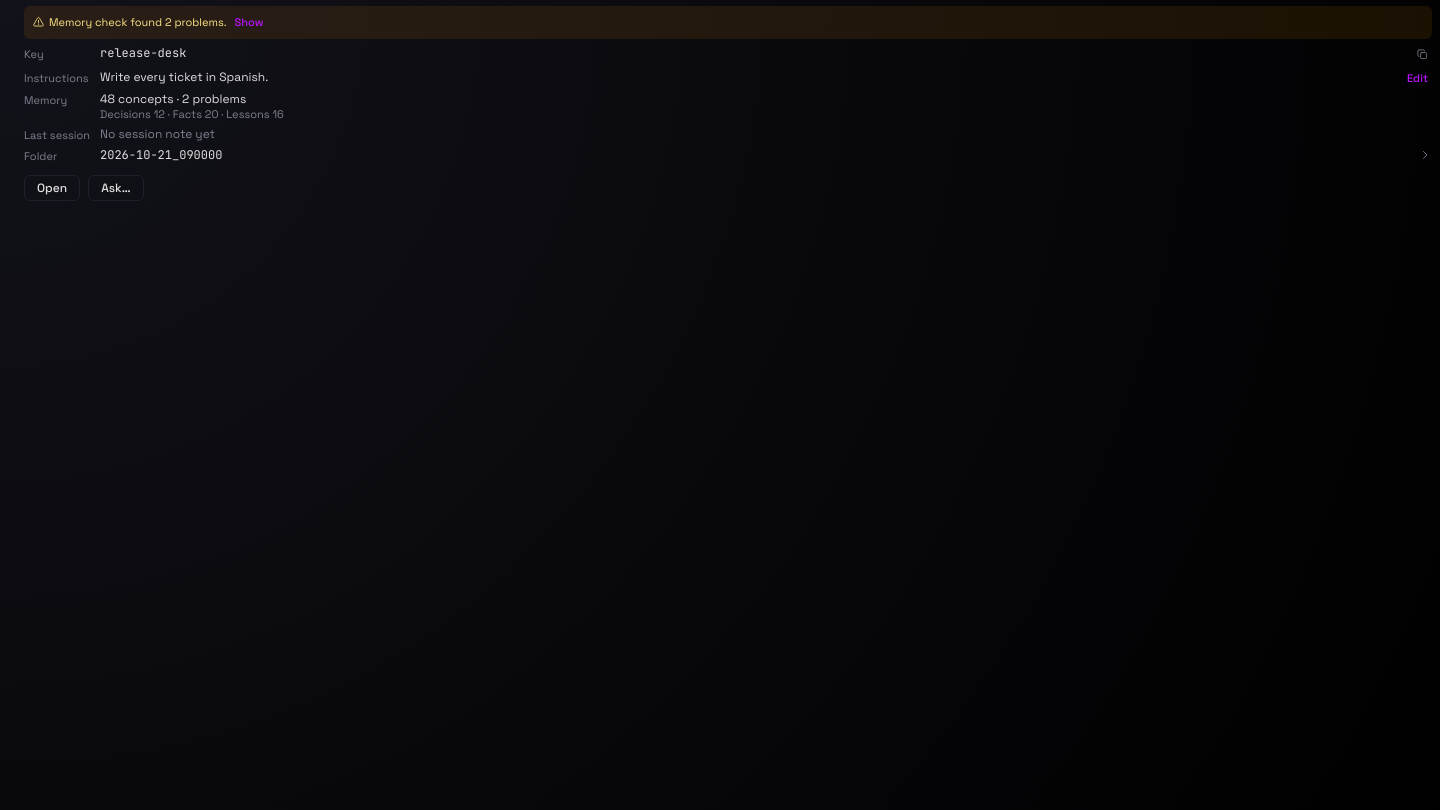
it: ManagerInspector › counts the problems the memory check found and unfolds them on Show
Expected: the text "Memory check found 2 problems." is shown, [49,14,227,30]
Expected: the text "facts/a.md: No type." is not shown
Click the button "Show": (249, 22) [231,12,268,32]
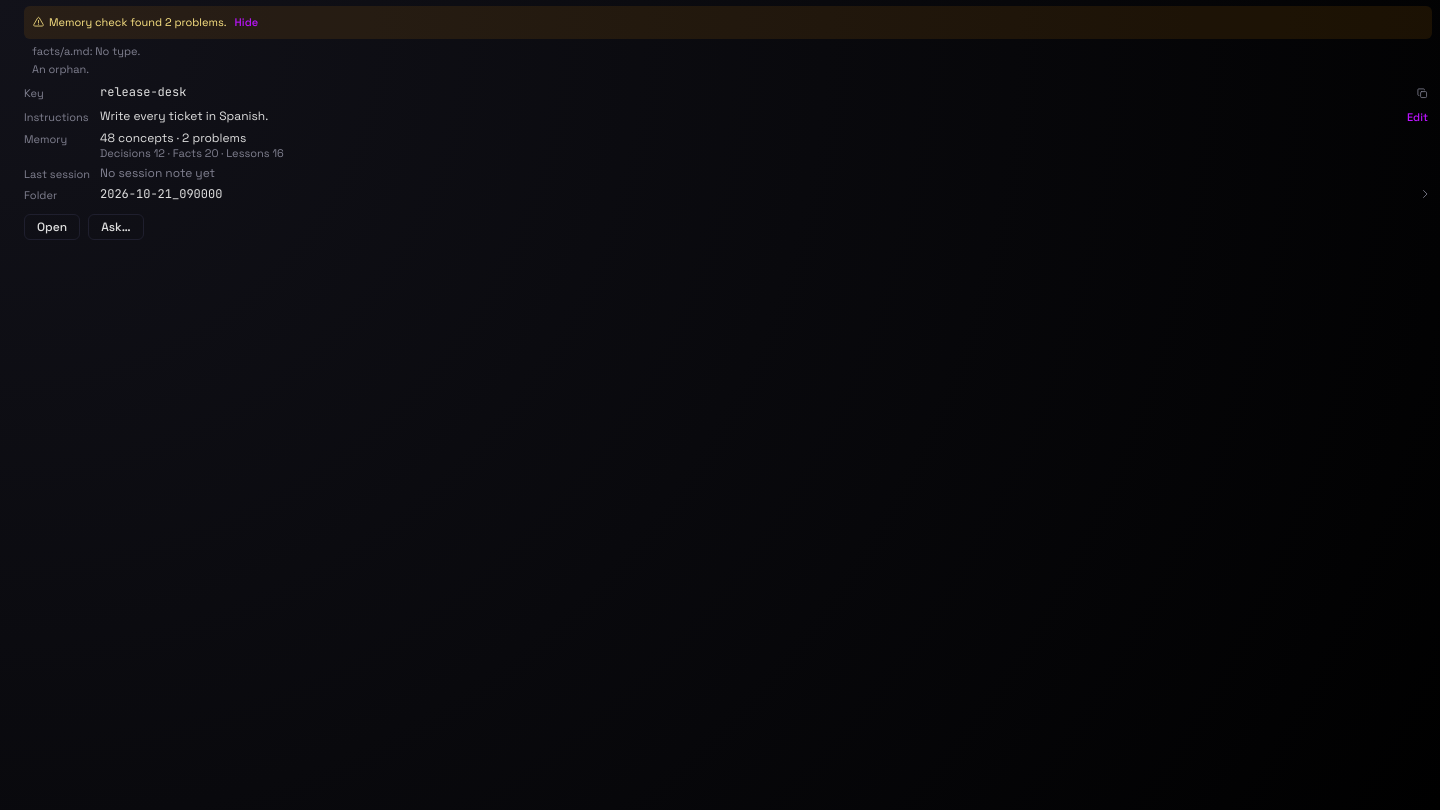
Now the list item "facts/a.md: No type." is shown, box [32,44,140,58]
Now the list item "An orphan." is shown, box [32,62,89,76]
